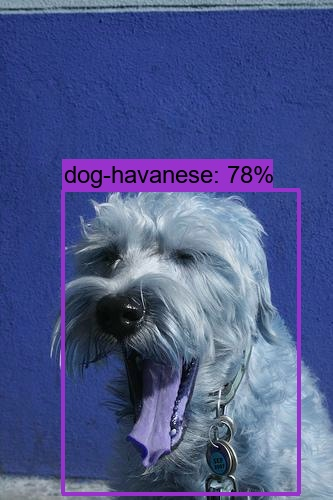dog-wheaten_terrier: (71, 188, 269, 467)
